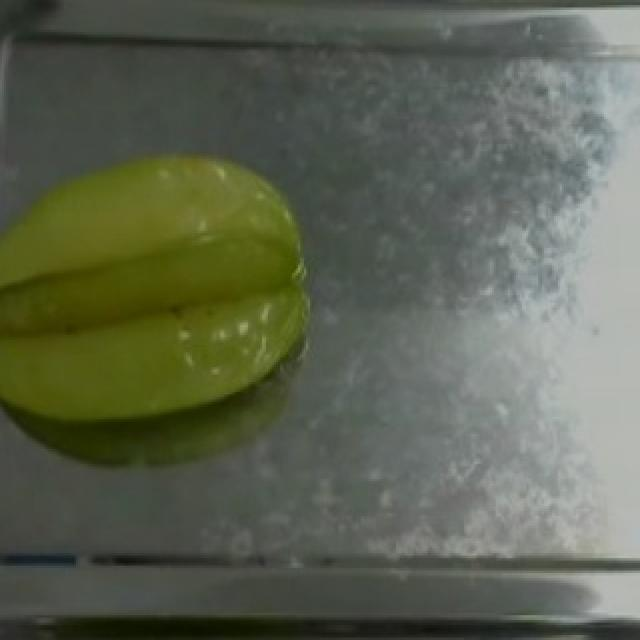fruit: (2, 112, 346, 466)
